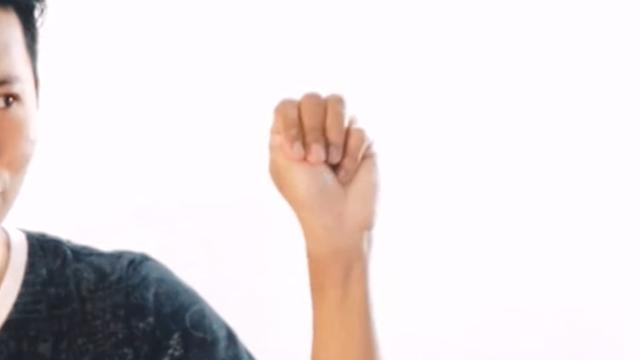M: (263, 87, 391, 241)
